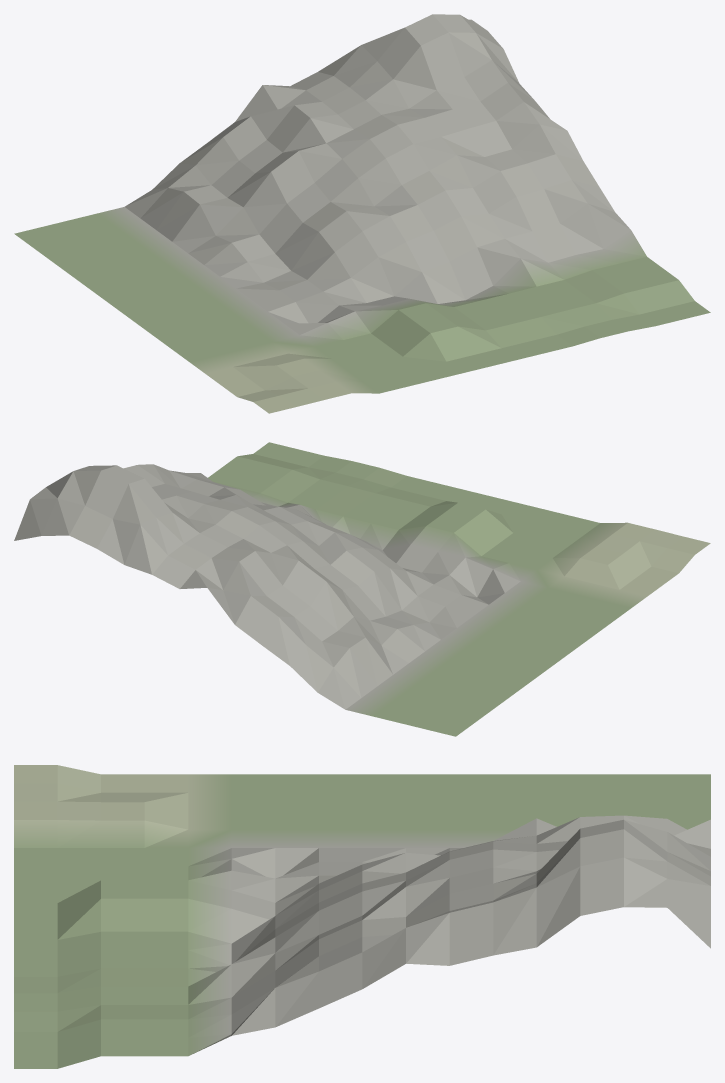
3 renders of one model, top to bottom at view 1: azimuth 30°, elevation 25°; view 2: azimuth 150°, elevation 25°; view 3: azimuth 270°, elevation 25°, orthographic. The views are drawn at different scales.
Bounding box in the file's own units: 32 × 11.04 × 32.
